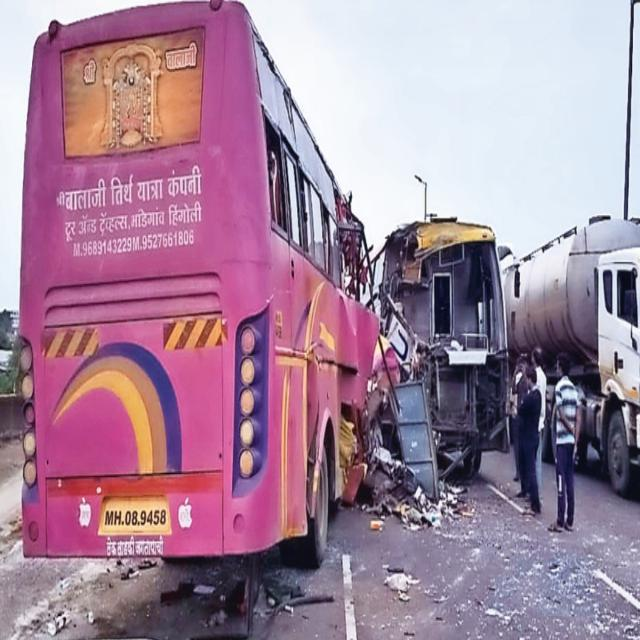accident: (20, 0, 379, 559), (379, 216, 509, 498)
truck: (501, 216, 640, 493)
